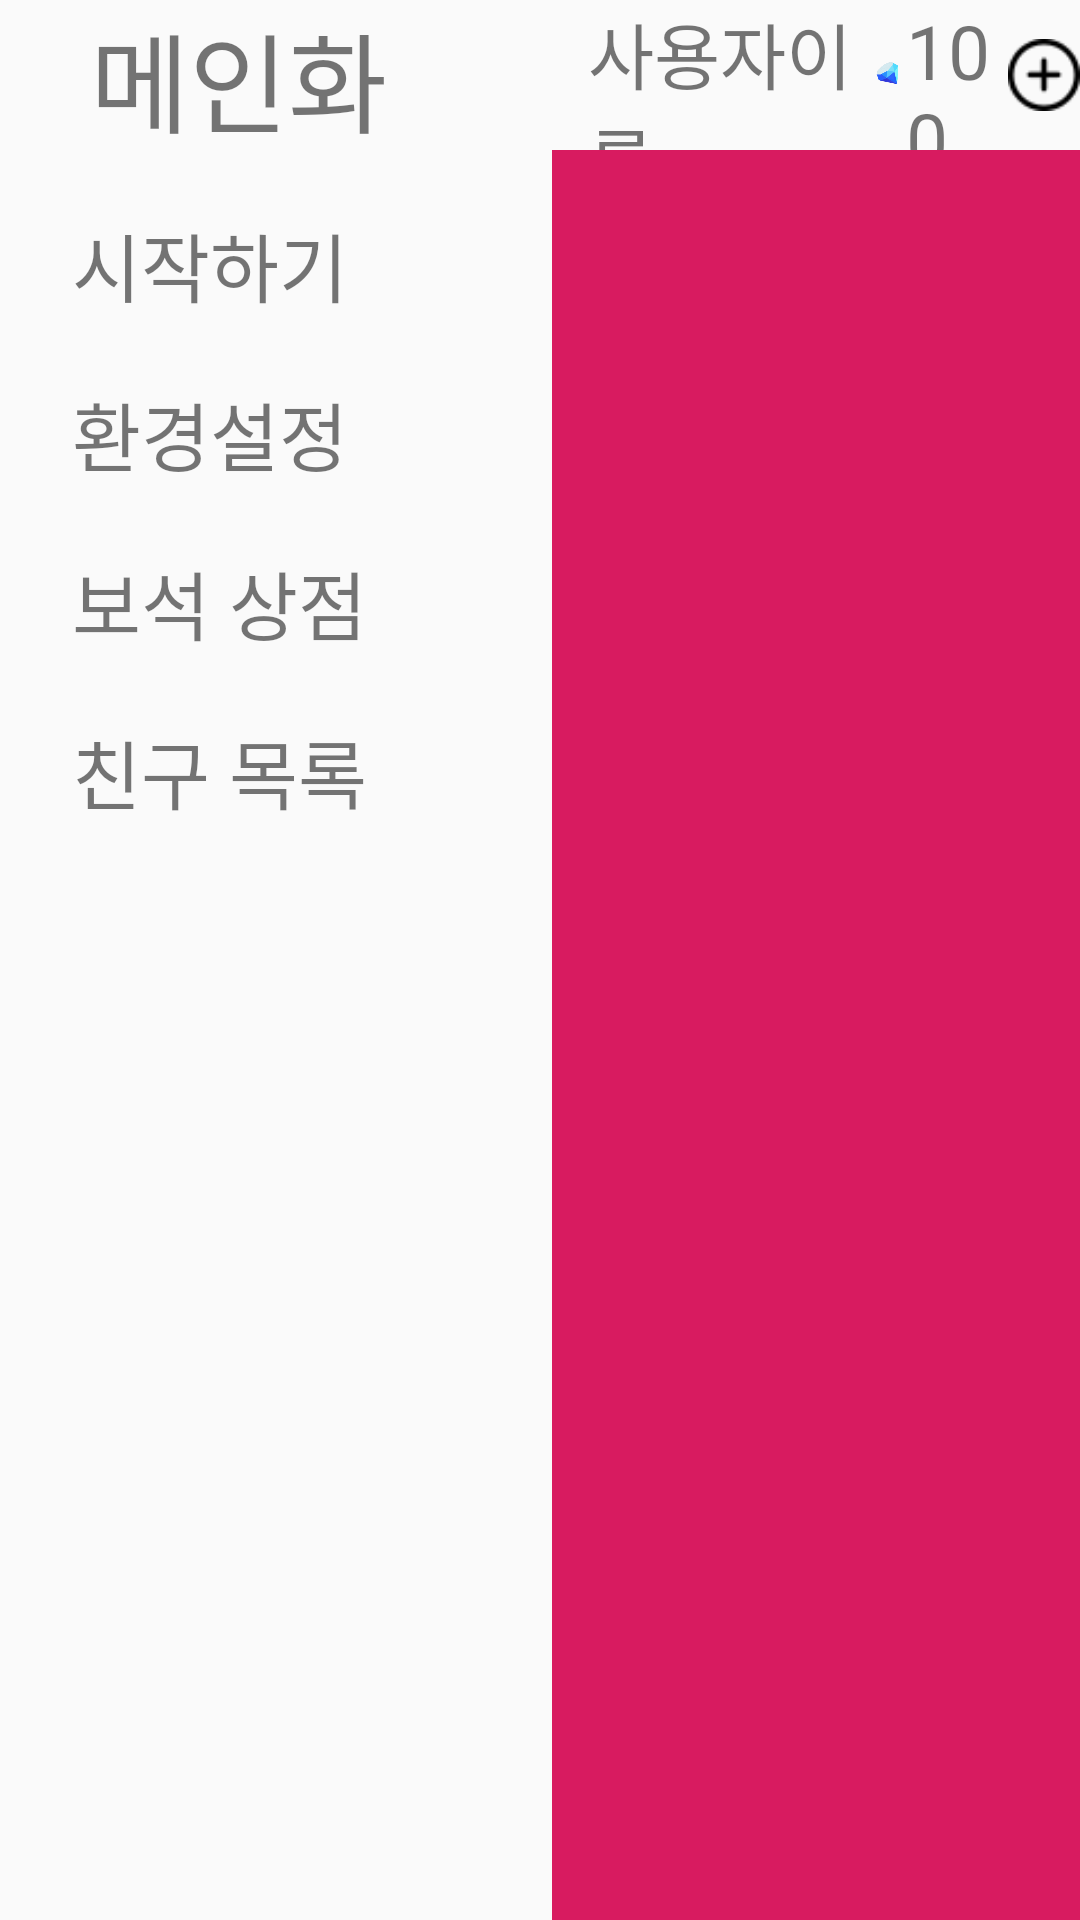

Screen size 1080w x 1920h. Icon name, then its center in pixels as (x=x, y=y):
plus: (x=1044, y=75)
